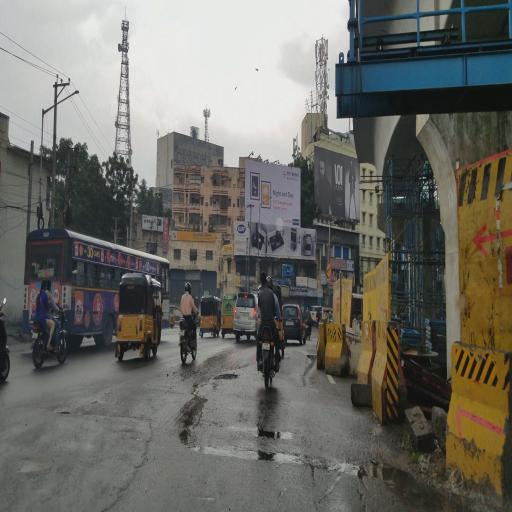street_light_0: (44, 83, 82, 123)
